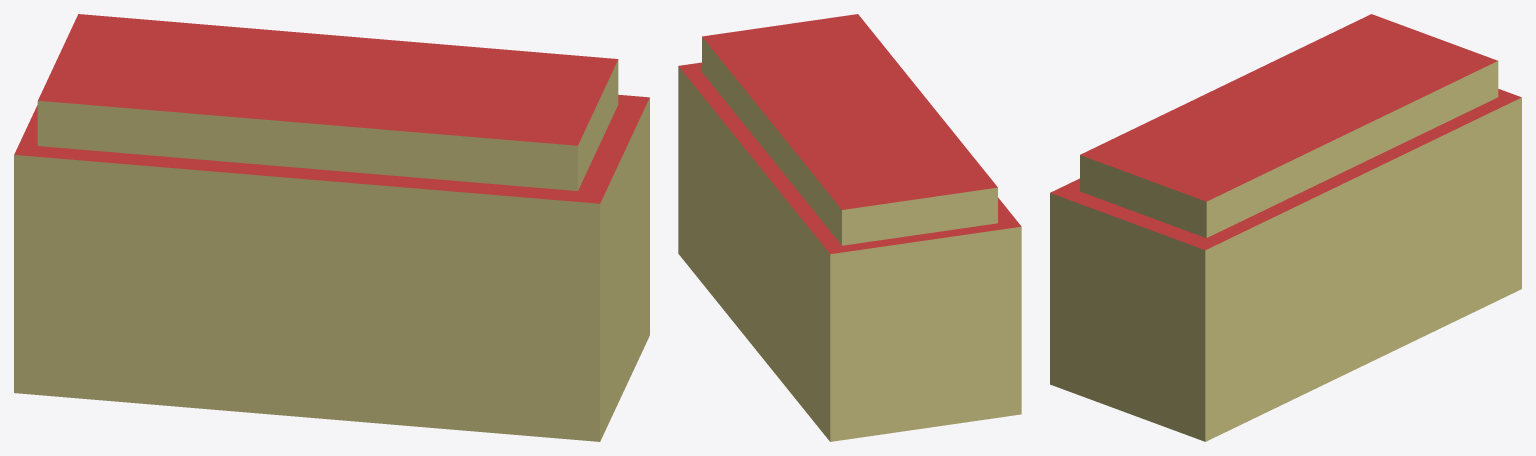
3 views of the same model, side by side, from view 1: azimuth 30°, elevation 25°; view 2: azimuth 150°, elevation 25°; view 3: azimuth 270°, elevation 25° (orthographic). The views are drawn at different scales.
Parts seen in each view (by area): view 1: group_6, group_4, group_5, group_3; view 2: group_6, group_4, group_5, group_3; view 3: group_6, group_4, group_5, group_3.
Part boxes in pixels (bbox=[...]): group_6: bbox=[14, 97, 649, 441]; group_4: bbox=[38, 14, 618, 145]; group_5: bbox=[37, 60, 618, 190]; group_3: bbox=[14, 94, 649, 203]; group_6: bbox=[678, 66, 1021, 441]; group_4: bbox=[702, 14, 997, 209]; group_5: bbox=[702, 37, 997, 245]; group_3: bbox=[678, 62, 1021, 254]; group_6: bbox=[1050, 97, 1521, 441]; group_4: bbox=[1080, 14, 1497, 201]; group_5: bbox=[1080, 61, 1498, 237]; group_3: bbox=[1050, 89, 1521, 250].
Size of the model in its own units: 30.71 by 29.11 by 15.53.
